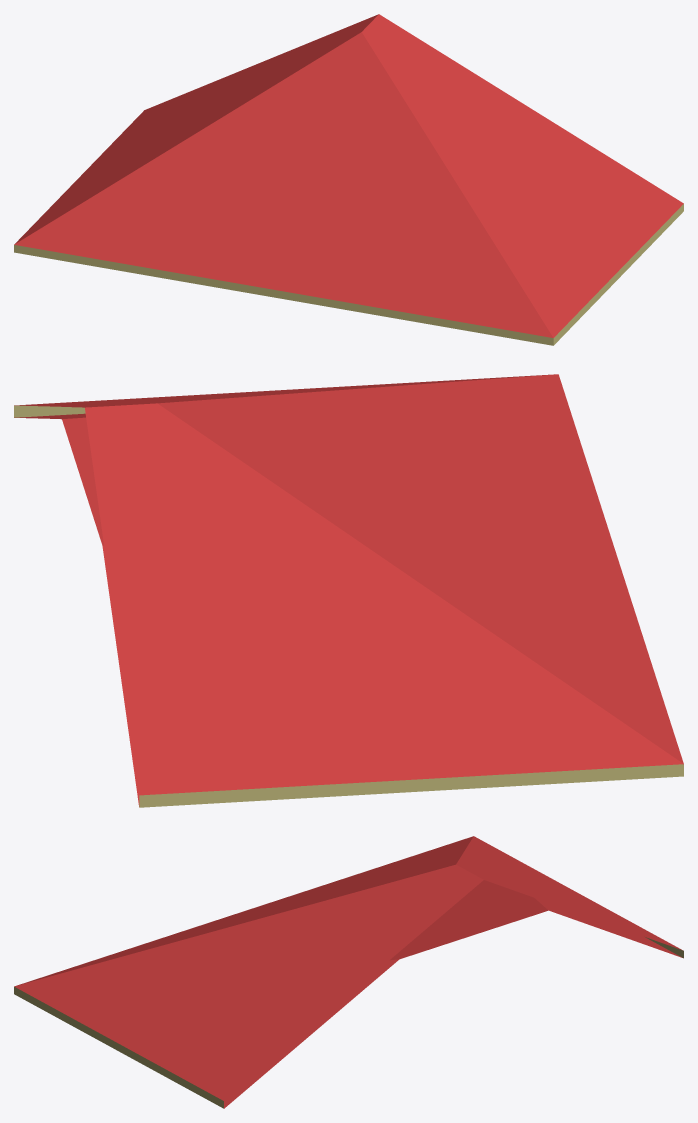
The picture shows the model from 3 angles, top to bottom: view 1: azimuth 30°, elevation 25°; view 2: azimuth 150°, elevation 25°; view 3: azimuth 270°, elevation 25°; orthographic projection. The views are drawn at different scales.
Size of the model in its own units: 7.38 by 7.88 by 1.87.
